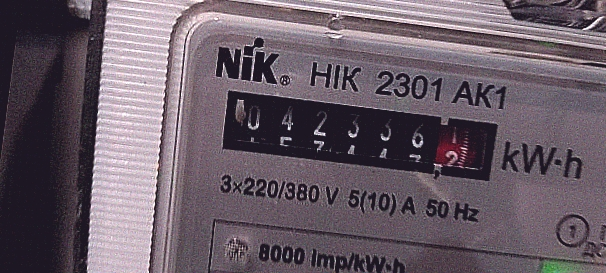0: (243, 101, 262, 131)
1: (446, 121, 461, 145)
2: (311, 106, 330, 137), (441, 147, 459, 167)
3: (375, 111, 394, 143), (343, 109, 361, 139)
4: (277, 101, 298, 132)
6: (408, 118, 429, 150)
screen: (207, 75, 511, 193)
